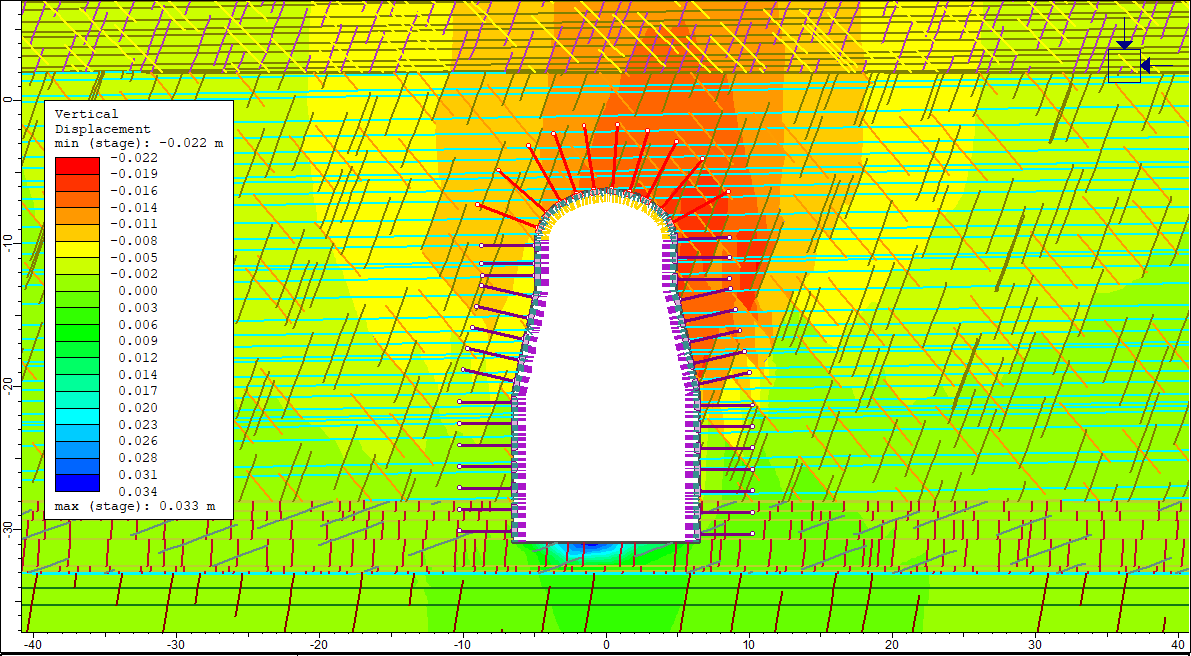crown: (577, 156, 626, 187)
label: (43, 102, 232, 518)
tunnel-opening: (512, 187, 699, 539)
